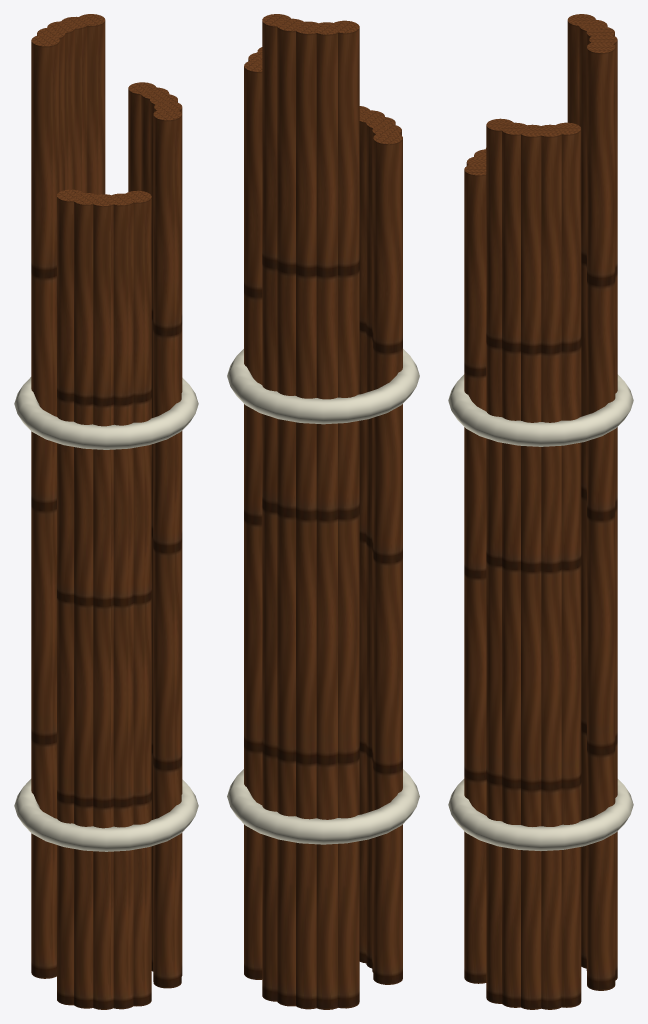
The model's file is primitive-crafting-workshop-reed-bundle-a9ccd611__21578.glb.
3 renders of one model, left to right at view 1: azimuth 30°, elevation 25°; view 2: azimuth 150°, elevation 25°; view 3: azimuth 270°, elevation 25°, orthographic. The views are drawn at different scales.
Visible parts, largest first — view 1: reed-bundle; view 2: reed-bundle; view 3: reed-bundle.
Part boxes in pixels (bbox=[...]): reed-bundle: bbox=[14, 14, 198, 1009]; reed-bundle: bbox=[227, 14, 419, 1009]; reed-bundle: bbox=[448, 14, 633, 1009].
Size of the model in its own units: 0.208 by 1.16 by 0.208.
Materials: 2 (1 with a texture image).
